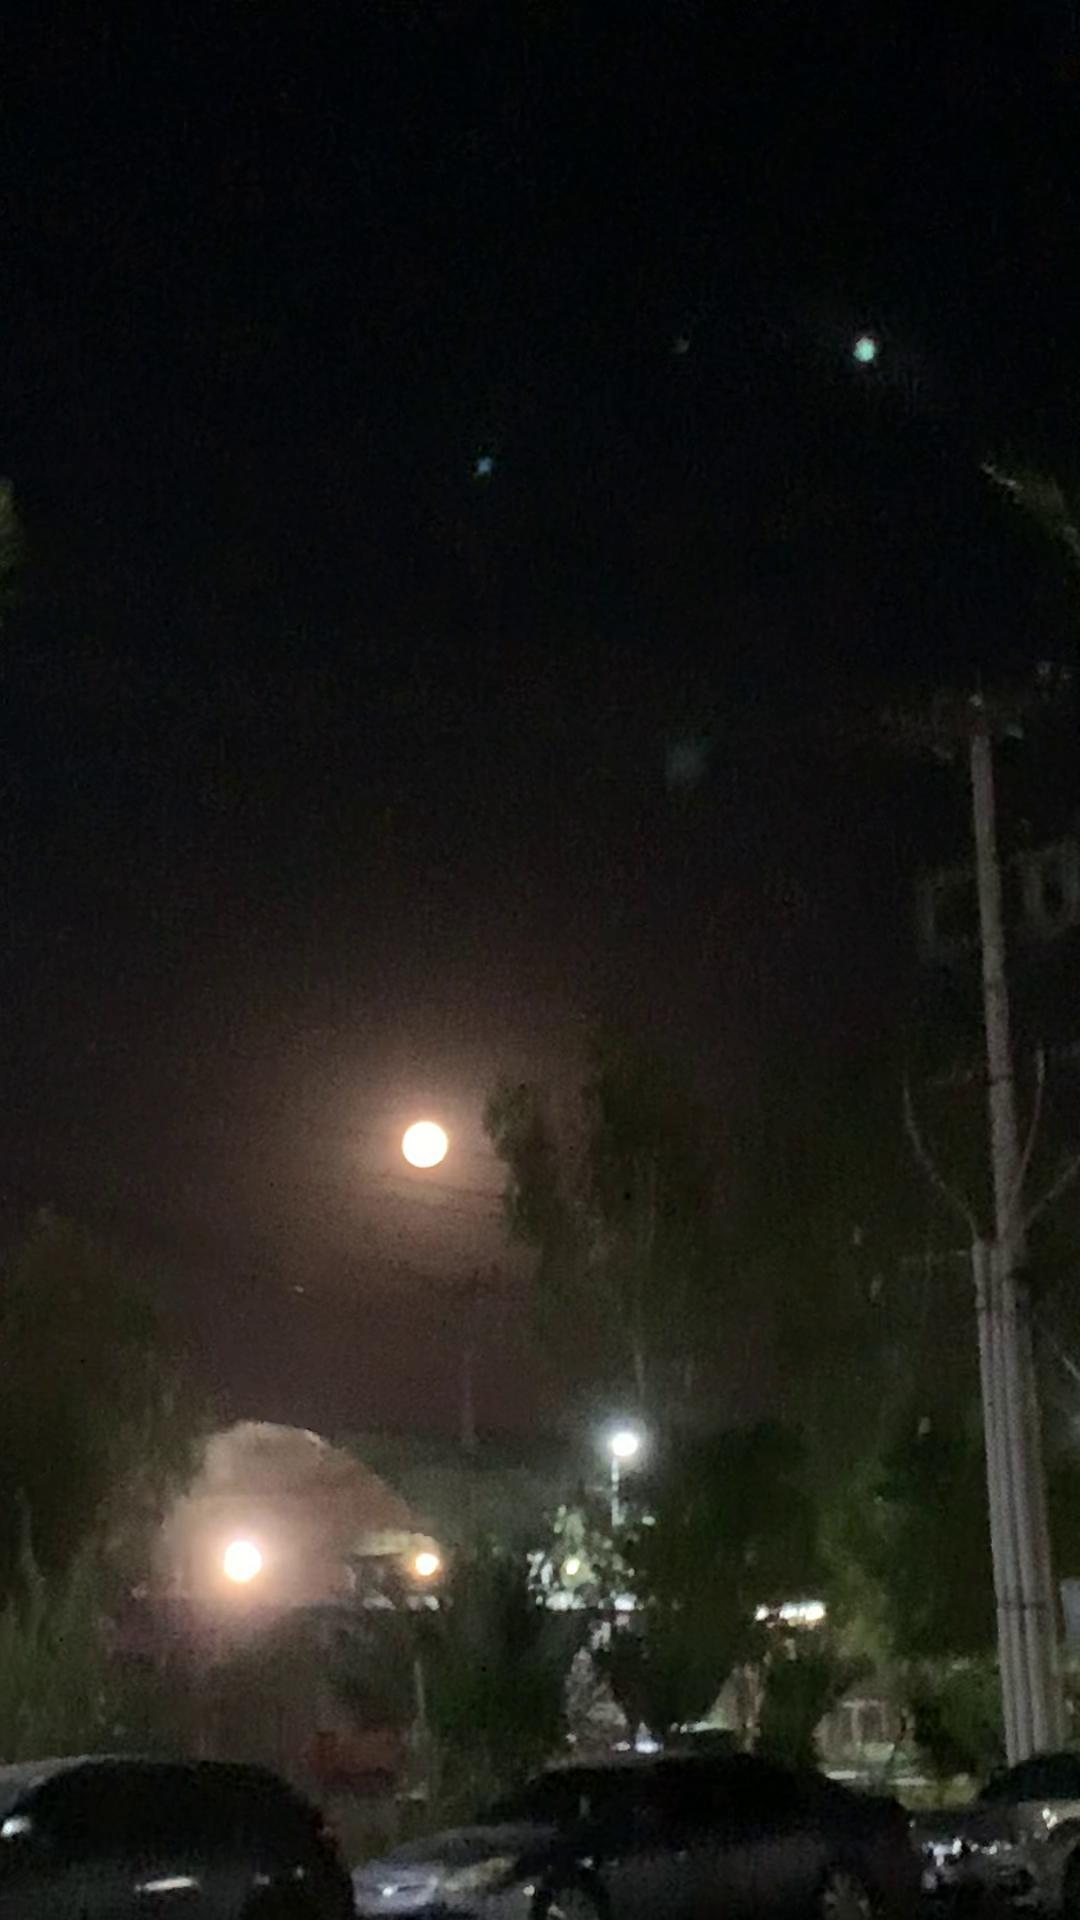moon: (381, 1093, 470, 1169)
